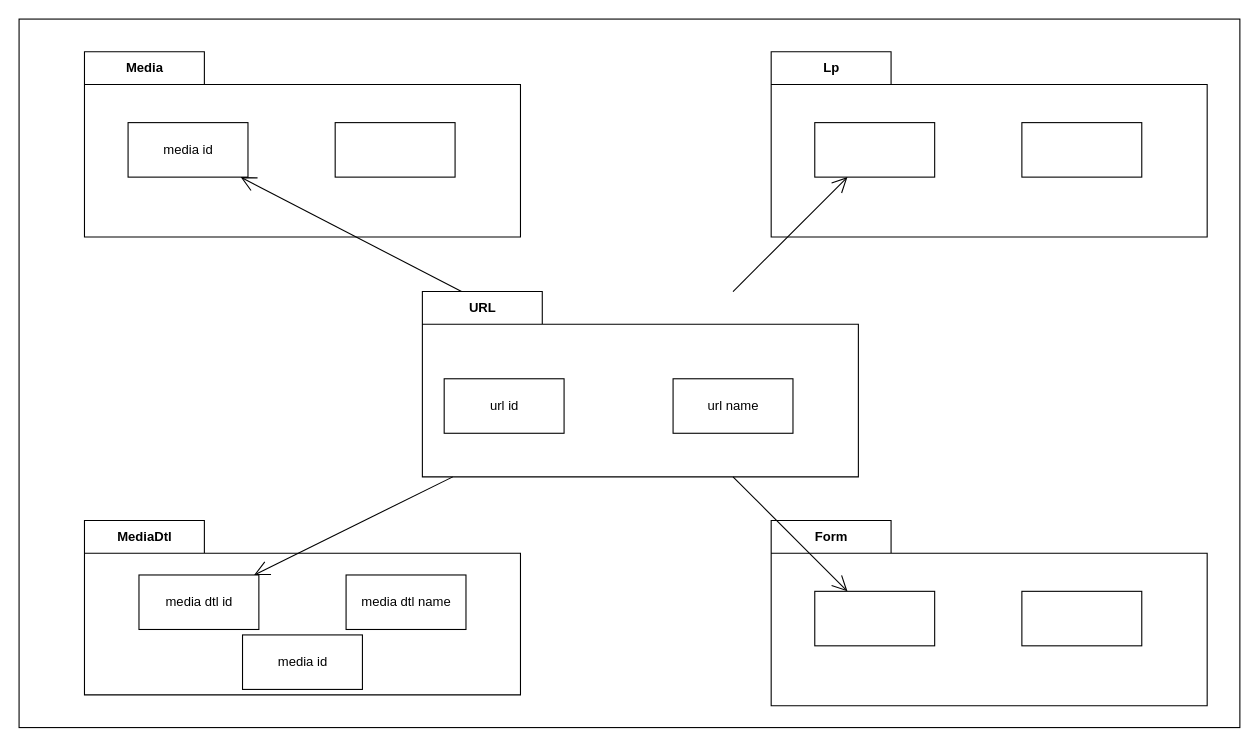
Some shapes in this 1259 by 747 pixel diagram are drawn without their labels. Each missing label, with the centre of its shape:
"form id" goes at (x=874, y=618).
"form name" goes at (x=1081, y=618).
"lp id" goes at (x=874, y=149).
"lp name" goes at (x=1081, y=149).
"media name" goes at (x=394, y=149).
